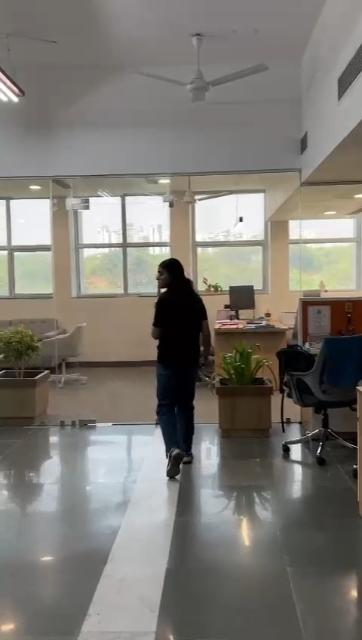floor: (0, 350, 362, 640)
moving-obj: (128, 220, 237, 480)
object: (287, 333, 353, 475), (217, 346, 276, 459), (0, 322, 48, 438), (34, 312, 86, 381), (222, 278, 262, 334)
wall: (82, 296, 154, 354), (263, 178, 291, 320), (52, 213, 79, 324), (168, 200, 196, 258)
